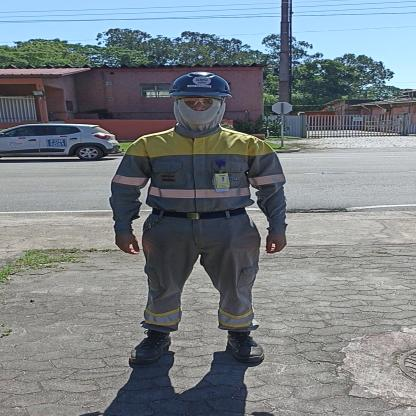Balaclava: (175, 96, 224, 131)
Capacete: (170, 70, 232, 95)
